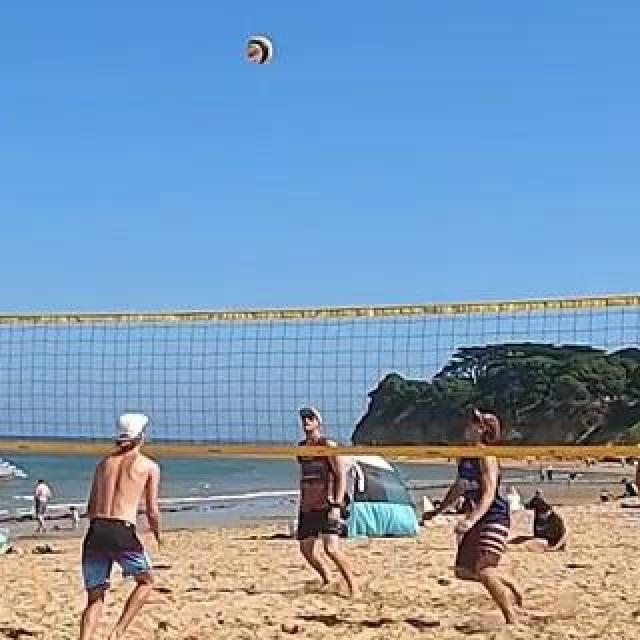volleyball: (246, 37, 272, 61)
